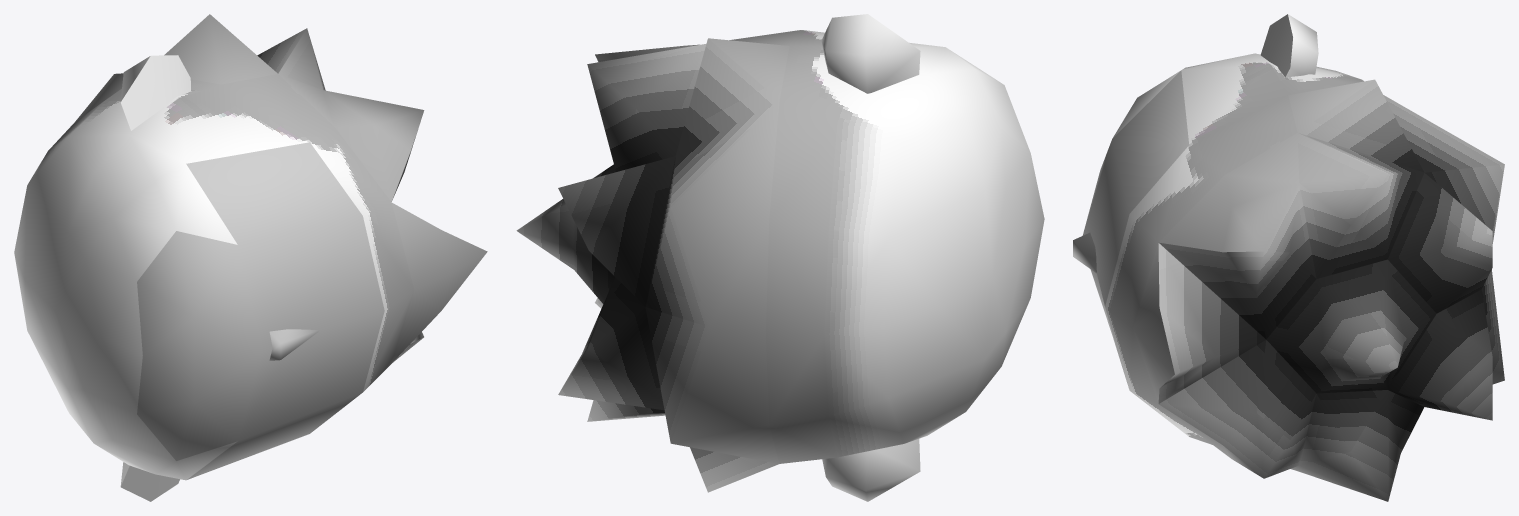
The model's file is boy03a.dae.
3 renders of one model, left to right at view 1: azimuth 30°, elevation 25°; view 2: azimuth 150°, elevation 25°; view 3: azimuth 270°, elevation 25°, orthographic. The views are drawn at different scales.
Visible parts, largest first — view 1: vsn_mesh_0_, vsn_mesh_1_, vsn_mesh_2_; view 2: vsn_mesh_0_; view 3: vsn_mesh_0_, vsn_mesh_1_.
Boxes of the visible parts, x1,y1,x2,y2 form: vsn_mesh_0_: [14, 14, 487, 501]; vsn_mesh_1_: [186, 142, 384, 479]; vsn_mesh_2_: [137, 231, 261, 460]; vsn_mesh_0_: [516, 14, 1044, 501]; vsn_mesh_0_: [1105, 14, 1504, 501]; vsn_mesh_1_: [1073, 70, 1189, 382].
Size of the model in its own units: 24.14 by 26.71 by 23.4.
Materials: 3 (1 with a texture image).
